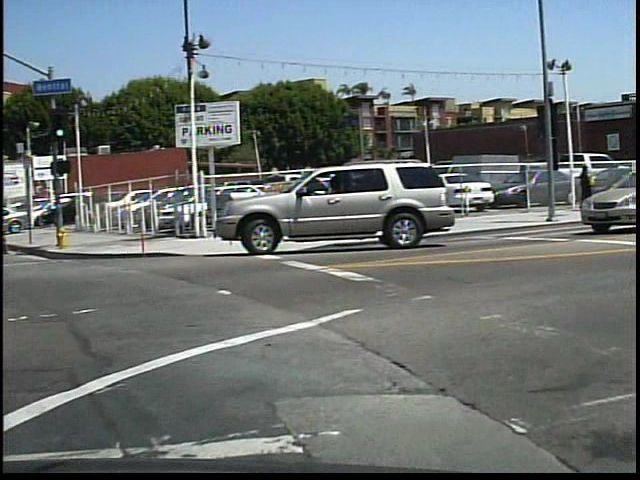person: (578, 163, 600, 214)
